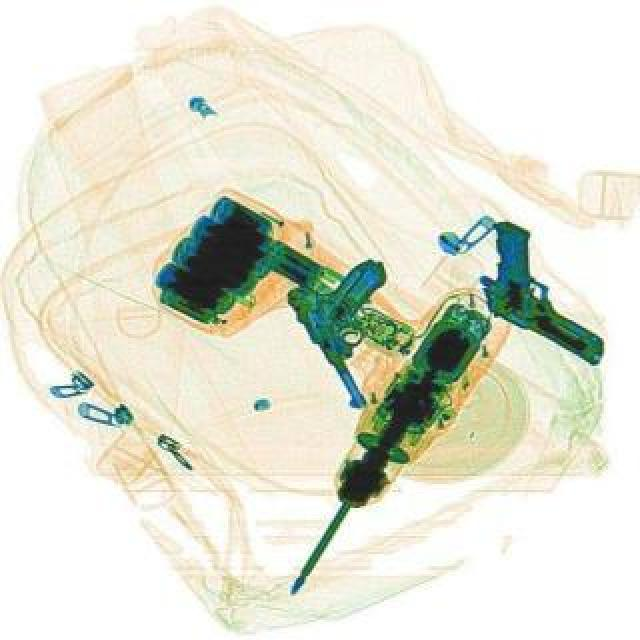gun: (446, 214, 638, 368), (280, 246, 440, 410)
